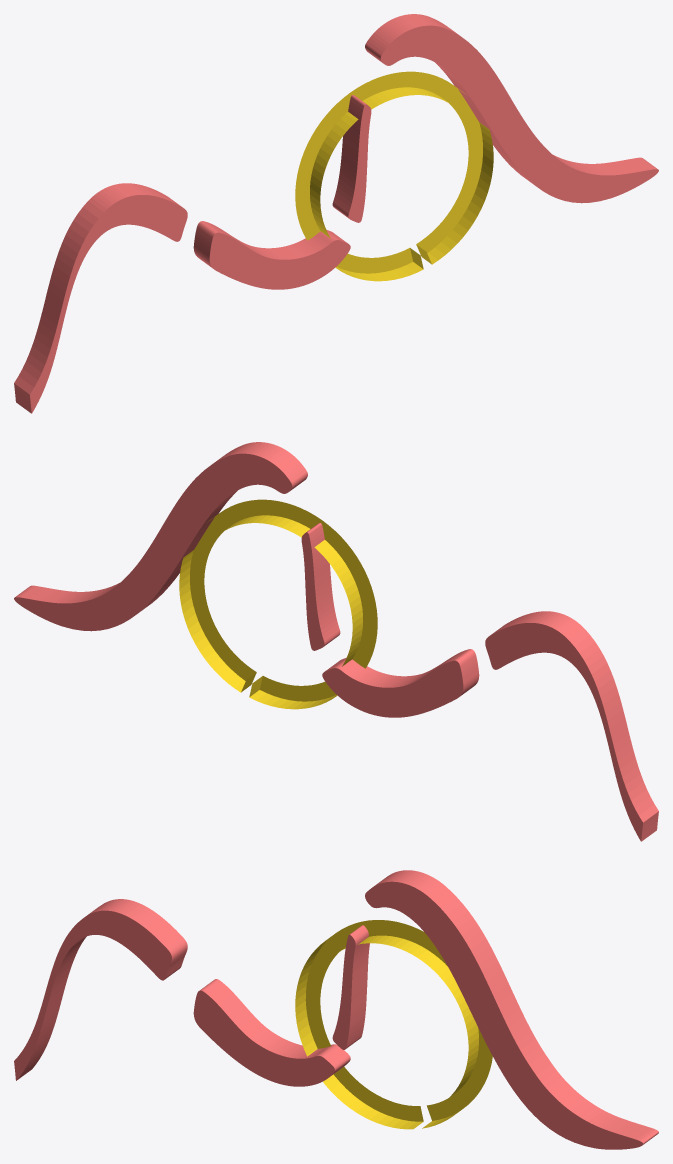
Rendered from add_loop_yellow.glb.
3 views of the same model, one above another, from view 1: azimuth 30°, elevation 25°; view 2: azimuth 150°, elevation 25°; view 3: azimuth 330°, elevation 25° (orthographic).
Parts seen in each view (by area): view 1: shape_03, virtual_loop_yellow, shape_00, shape_01, shape_02; view 2: shape_03, virtual_loop_yellow, shape_00, shape_01, shape_02; view 3: shape_03, virtual_loop_yellow, shape_00, shape_01, shape_02.
Boxes of the visible parts, <box> form: shape_03: <box>365,14,658,203</box>; virtual_loop_yellow: <box>295,71,493,281</box>; shape_00: <box>14,183,187,413</box>; shape_01: <box>193,221,350,289</box>; shape_02: <box>332,95,371,222</box>; shape_03: <box>14,442,307,631</box>; virtual_loop_yellow: <box>179,499,377,709</box>; shape_00: <box>485,611,658,841</box>; shape_01: <box>322,649,479,717</box>; shape_02: <box>301,523,340,650</box>; shape_03: <box>365,870,658,1149</box>; virtual_loop_yellow: <box>295,920,492,1129</box>; shape_00: <box>14,899,187,1080</box>; shape_01: <box>193,979,350,1086</box>; shape_02: <box>332,925,369,1049</box>.
Bounding box in the file's own units: 6.9 × 3.06 × 0.3.
